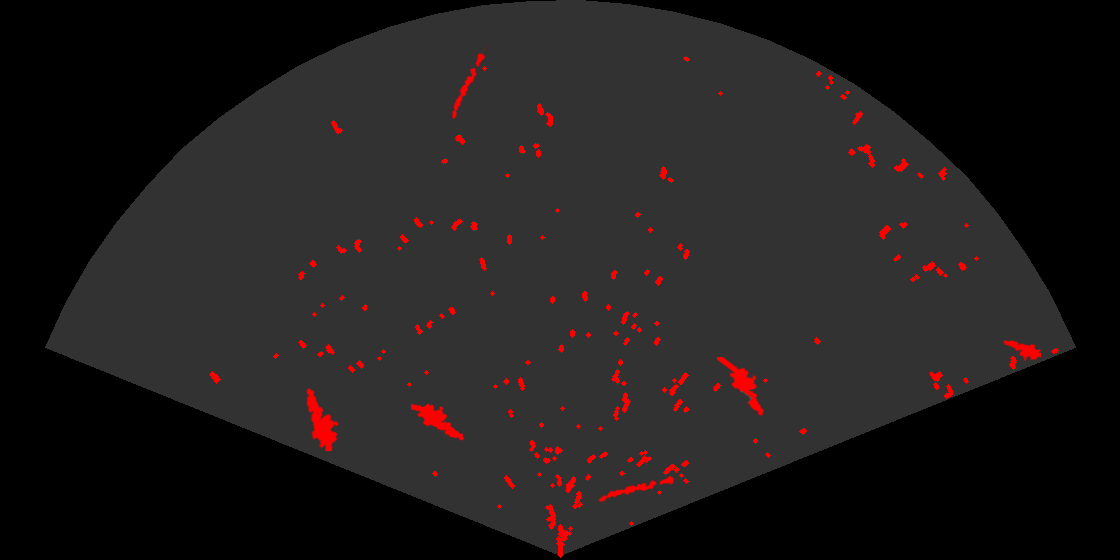chain: (450, 45, 489, 121), (596, 474, 677, 504)
frogman: (717, 357, 766, 417), (305, 387, 341, 451), (411, 402, 467, 442), (1002, 339, 1041, 363)
